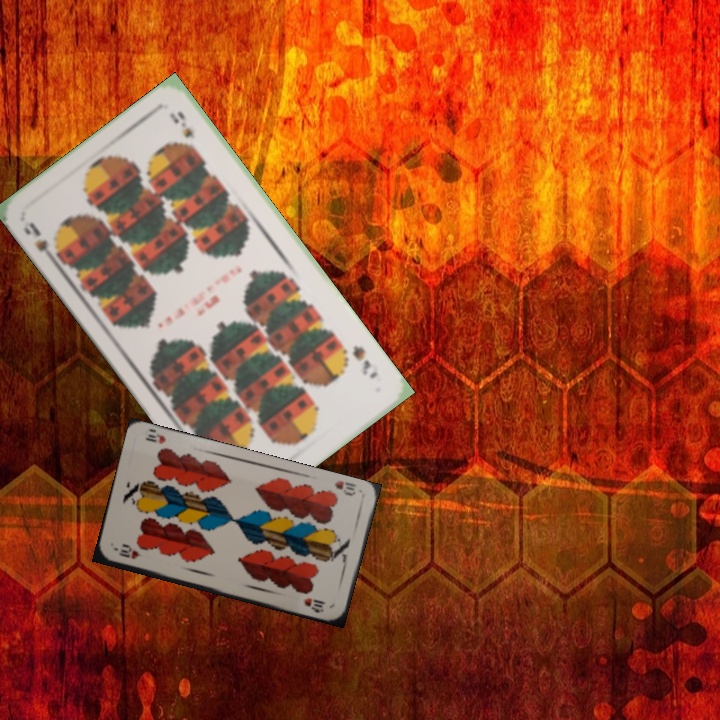H10: (331, 476, 358, 499), (115, 545, 145, 562)
S9: (19, 218, 65, 267), (348, 341, 381, 381)
